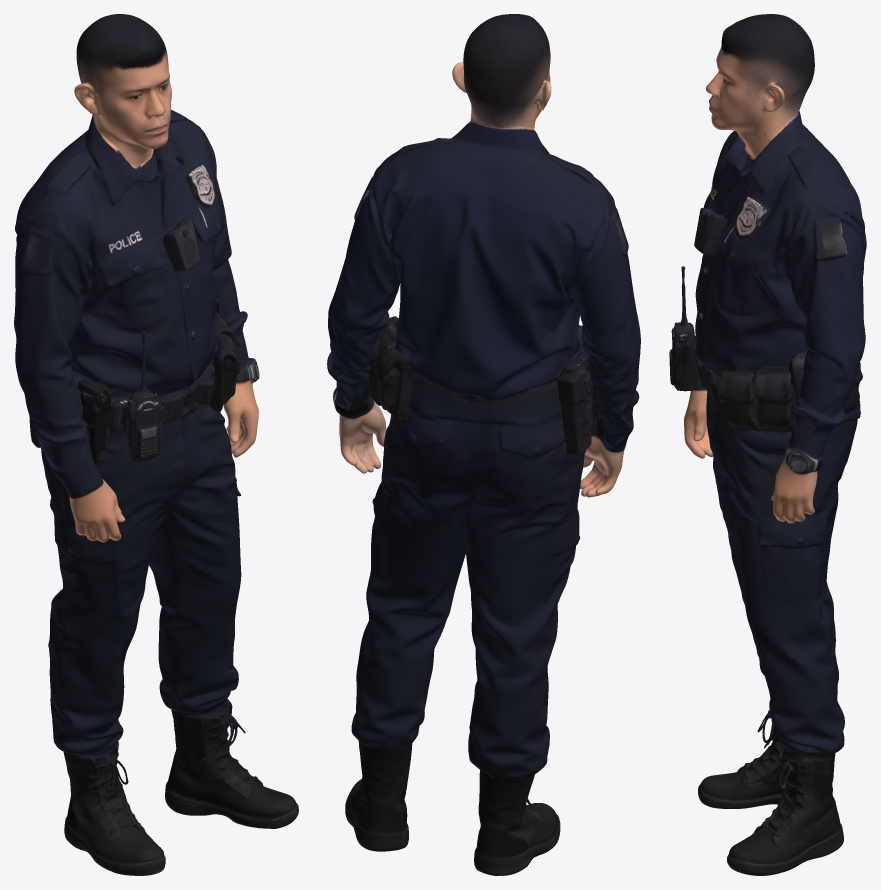
Rendered from standing_police_officer.glb.
3 views of the same model, side by side, from view 1: azimuth 30°, elevation 25°; view 2: azimuth 150°, elevation 25°; view 3: azimuth 270°, elevation 25° (orthographic). The views are drawn at different scales.
Visible parts, largest first — view 1: Object_5, Object_7, Object_6; view 2: Object_6, Object_5, Object_7; view 3: Object_5, Object_6, Object_7.
Part boxes in pixels (box(x1,y1,x2,y2)): Object_5: box(15, 14, 267, 875); Object_7: box(14, 22, 298, 873); Object_6: box(14, 32, 284, 841); Object_6: box(327, 62, 631, 875); Object_5: box(333, 14, 640, 875); Object_7: box(355, 14, 640, 851); Object_5: box(669, 14, 861, 868); Object_6: box(724, 27, 866, 875); Object_7: box(702, 16, 779, 874).
Bounding box in the file's own units: 0.6656 × 1.9 × 0.4327.
1 material, 1 textured.
